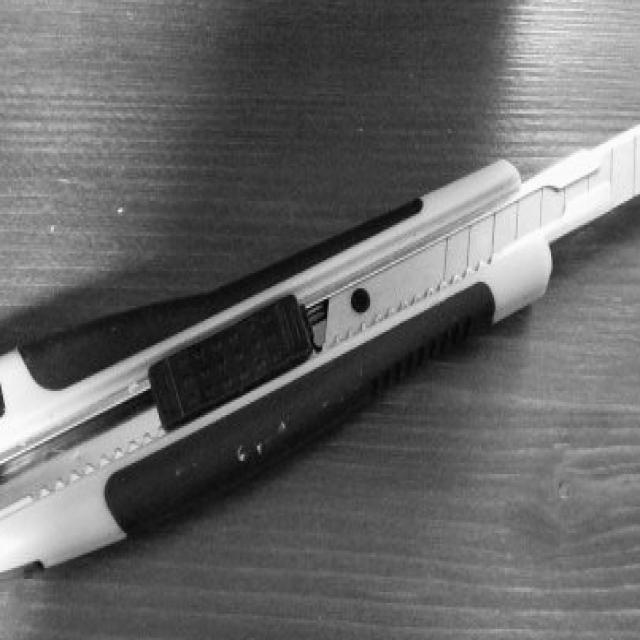estilete: (0, 123, 640, 579)
